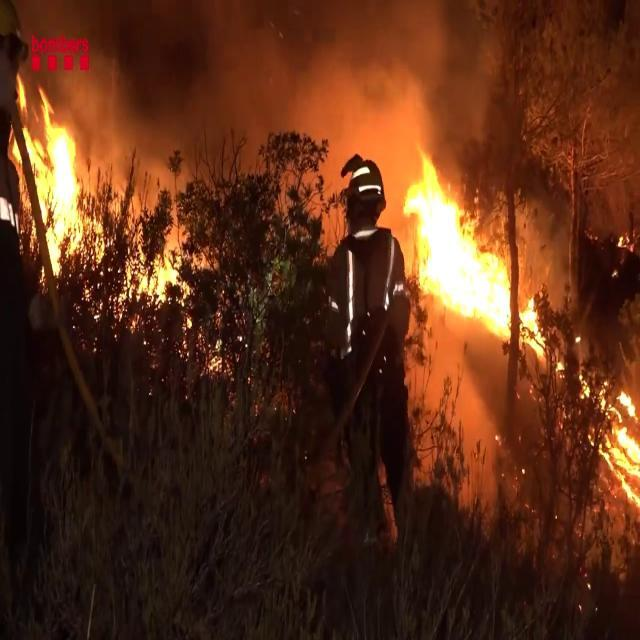Fire: (402, 152, 543, 338), (8, 77, 86, 275), (584, 365, 640, 532), (124, 218, 194, 336)
Smoke: (84, 0, 486, 211)
